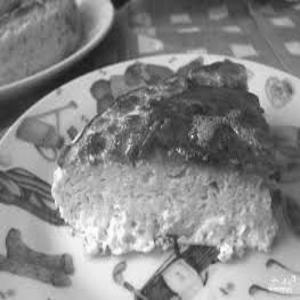omelet: (47, 61, 290, 271)
